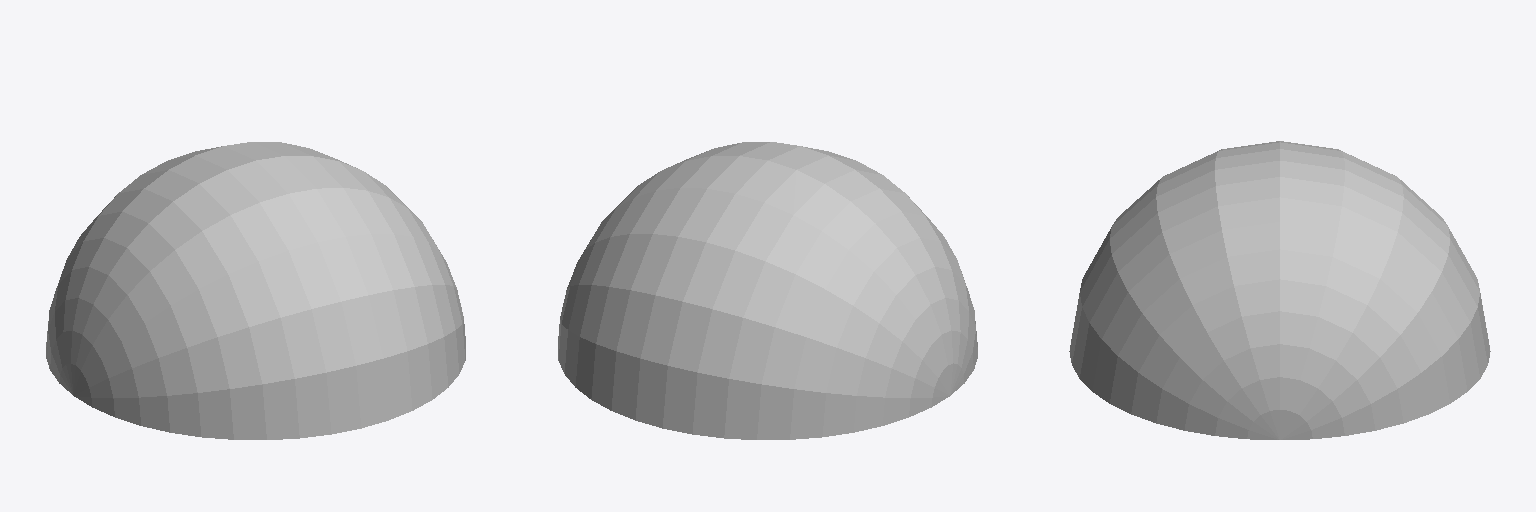
File: ShieldEffect.obj
3 renders of one model, left to right at view 1: azimuth 30°, elevation 25°; view 2: azimuth 150°, elevation 25°; view 3: azimuth 270°, elevation 25°, orthographic.
Parts seen in each view (by area): view 1: pSphere1; view 2: pSphere1; view 3: pSphere1.
Boxes of the visible parts, x1,y1,x2,y2 form: pSphere1: [46, 142, 465, 439]; pSphere1: [558, 142, 977, 439]; pSphere1: [1069, 141, 1490, 439].
Size of the model in its own units: 2 by 1 by 2.